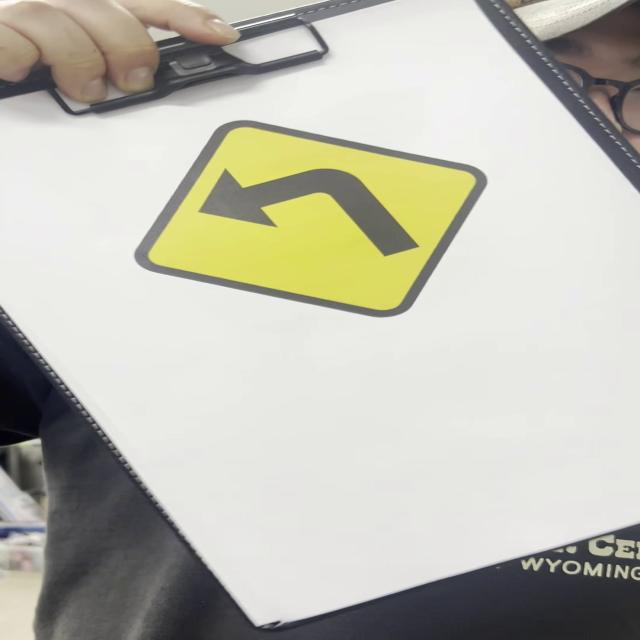left: (130, 125, 493, 319)
